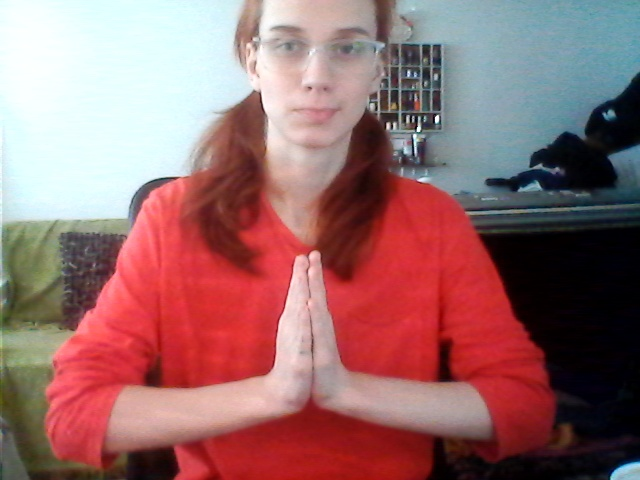prosim: (225, 248, 407, 443)
